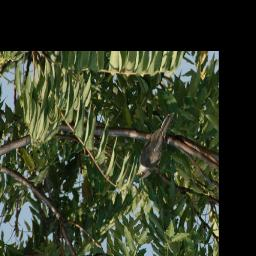Cuckoo: (133, 110, 178, 179)
